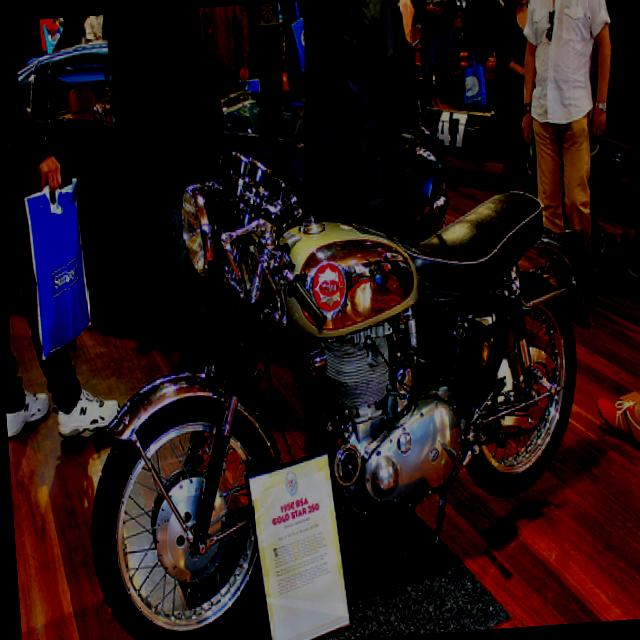Vehicle: (60, 122, 615, 640), (16, 19, 450, 266)
